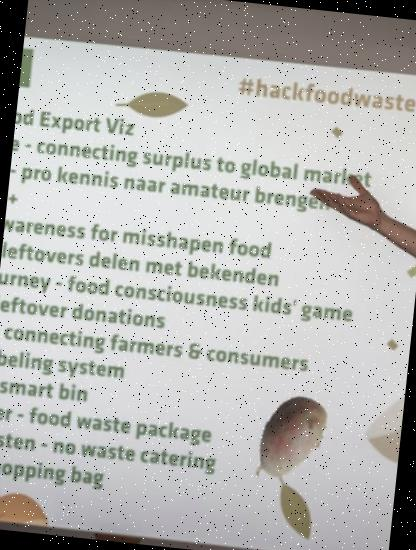Potato: (235, 387, 344, 496)
